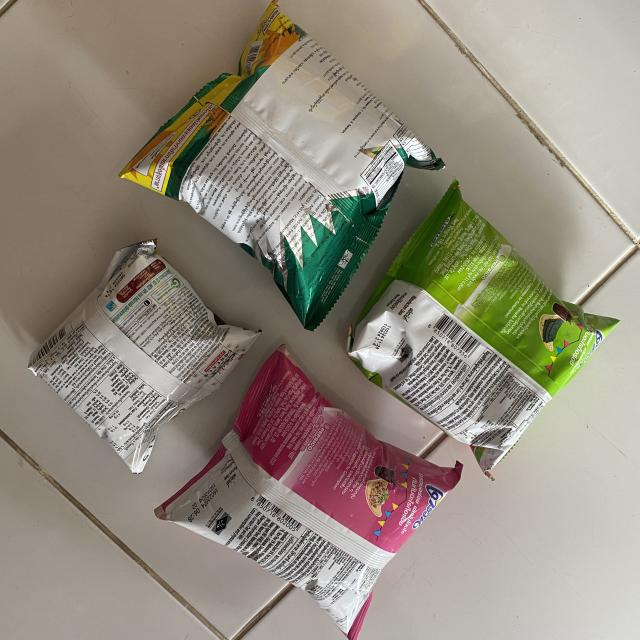plastik: (120, 0, 444, 330), (155, 346, 462, 640), (350, 180, 619, 476), (29, 240, 259, 472)
